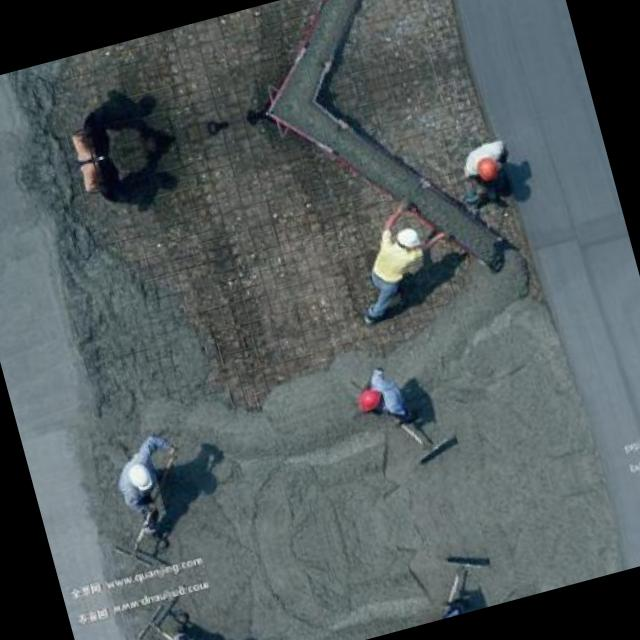helmet: (118, 456, 164, 501), (346, 381, 391, 418), (465, 148, 507, 186), (390, 218, 426, 257)
